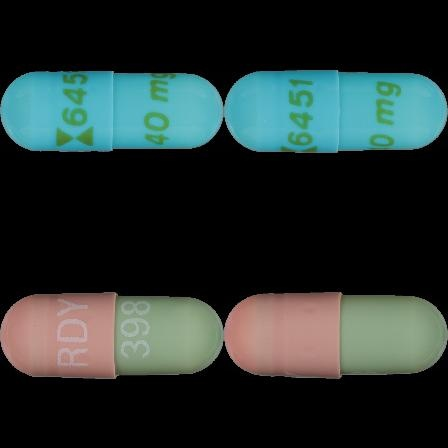61919-243: (0, 0, 224, 224)
